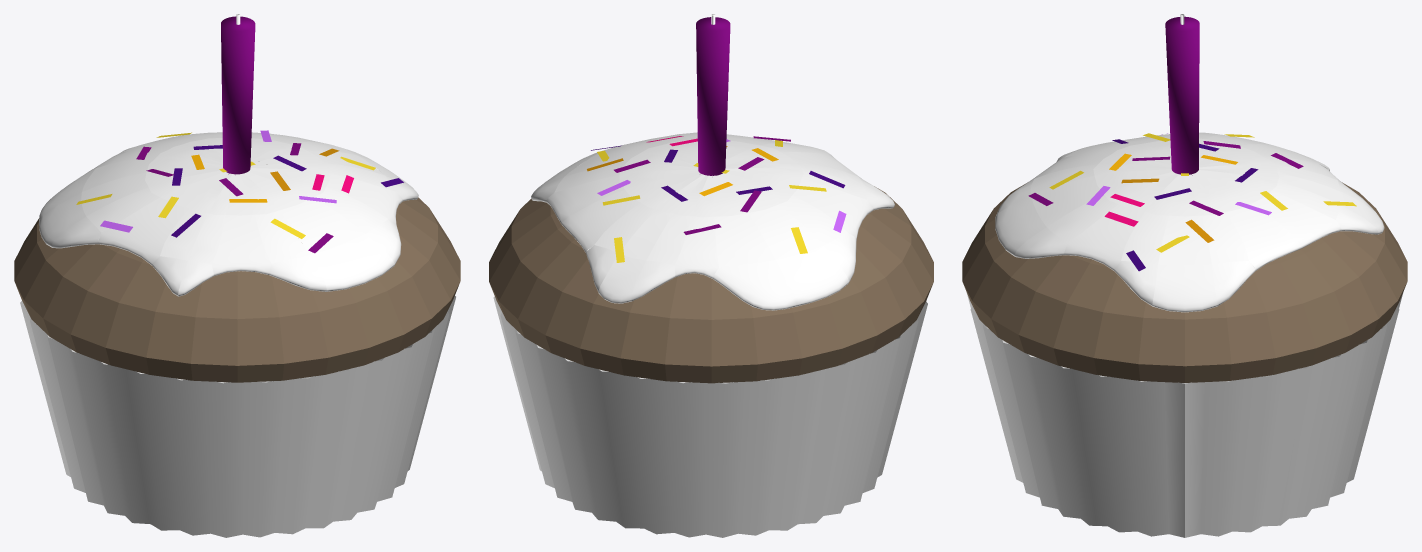
Rendered from BirthdayCake.FBX.
3 views of the same model, side by side, from view 1: azimuth 30°, elevation 25°; view 2: azimuth 150°, elevation 25°; view 3: azimuth 270°, elevation 25° (orthographic).
Parts seen in each view (by area): view 1: Cake2; view 2: Cake2; view 3: Cake2.
Part boxes in pixels (<box>): Cake2: <box>14,14,460,537</box>; Cake2: <box>489,14,933,537</box>; Cake2: <box>962,14,1407,537</box>.
Size of the model in its own units: 420 by 466 by 417.
